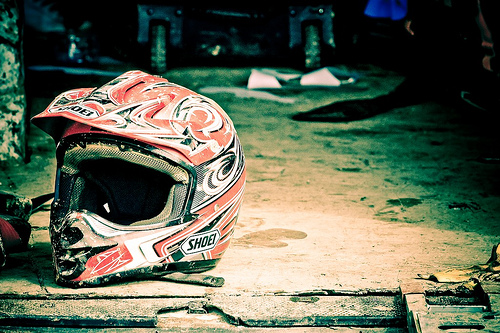helmet: (46, 78, 244, 265)
